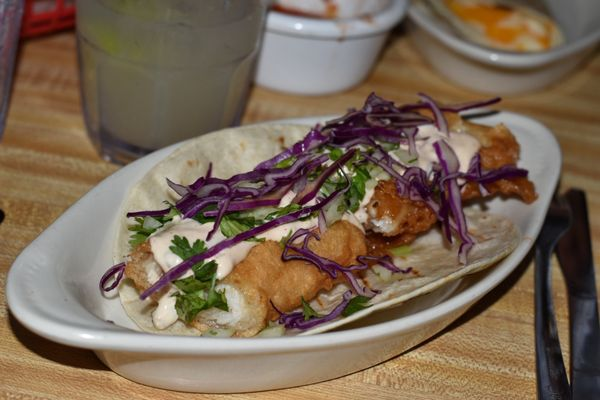pizza: (74, 0, 267, 165)
sandwich: (555, 186, 600, 395)
sushi: (403, 0, 599, 80), (254, 0, 408, 95)
